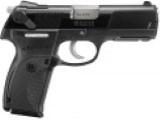gun: (1, 0, 160, 119)
